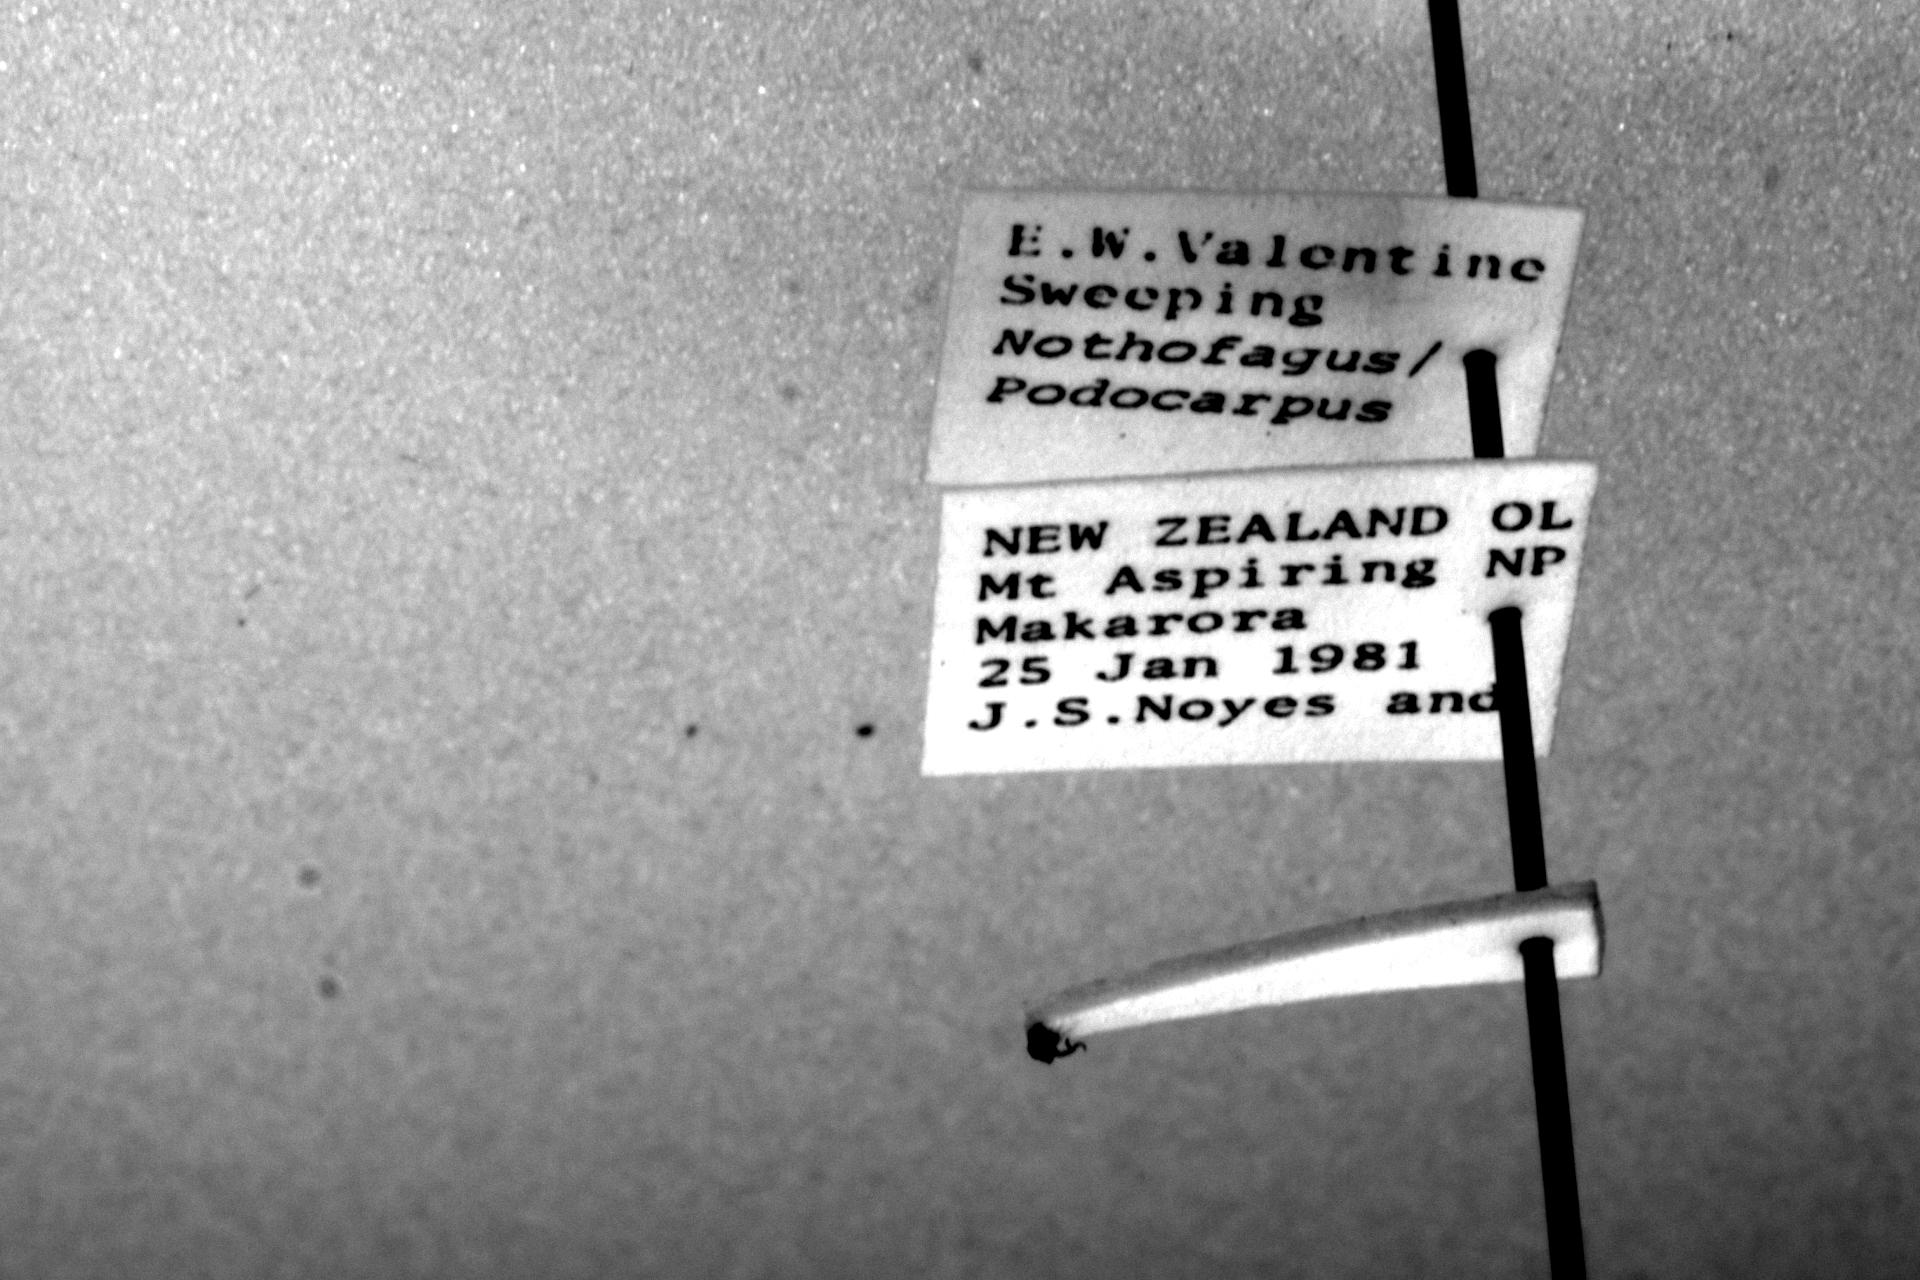typed_label: (923, 461, 1597, 776), (926, 191, 1583, 487)
